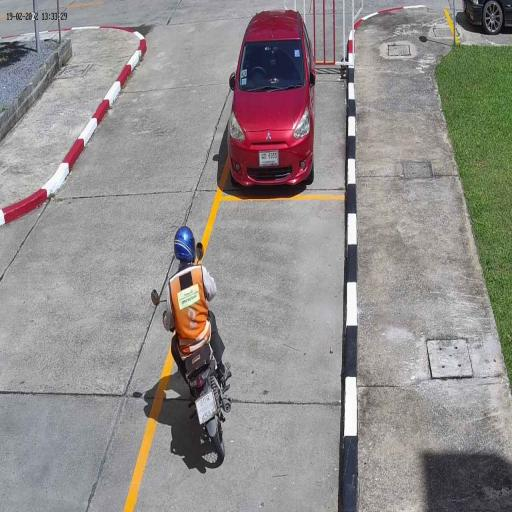car: (226, 9, 318, 187)
motorcycle: (184, 350, 232, 467)
